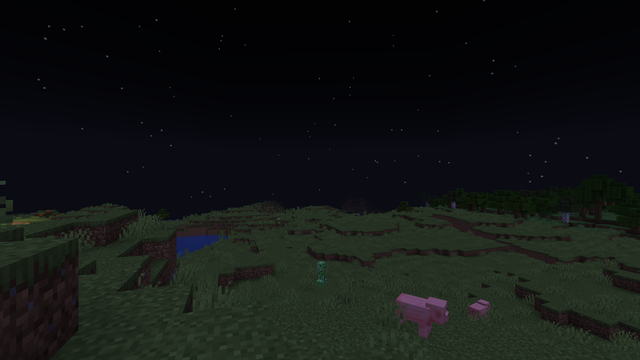cochons: (393, 291, 436, 339), (466, 301, 490, 323)
creepers: (316, 259, 326, 286)
